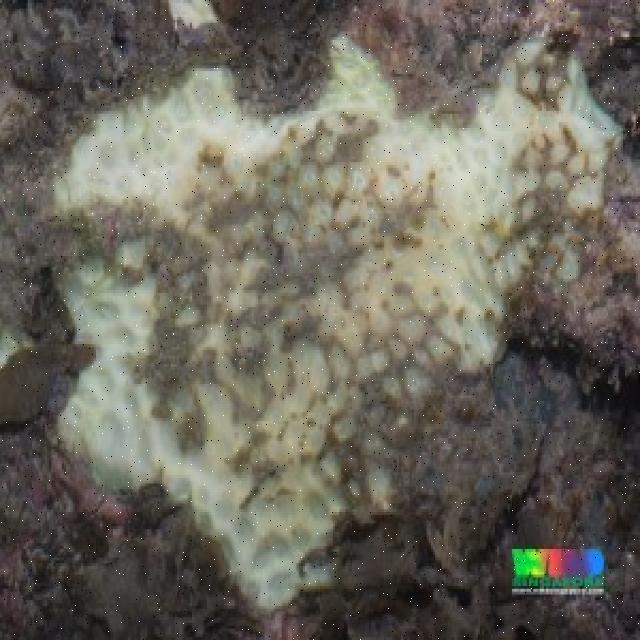Bleached: (56, 38, 617, 557)
